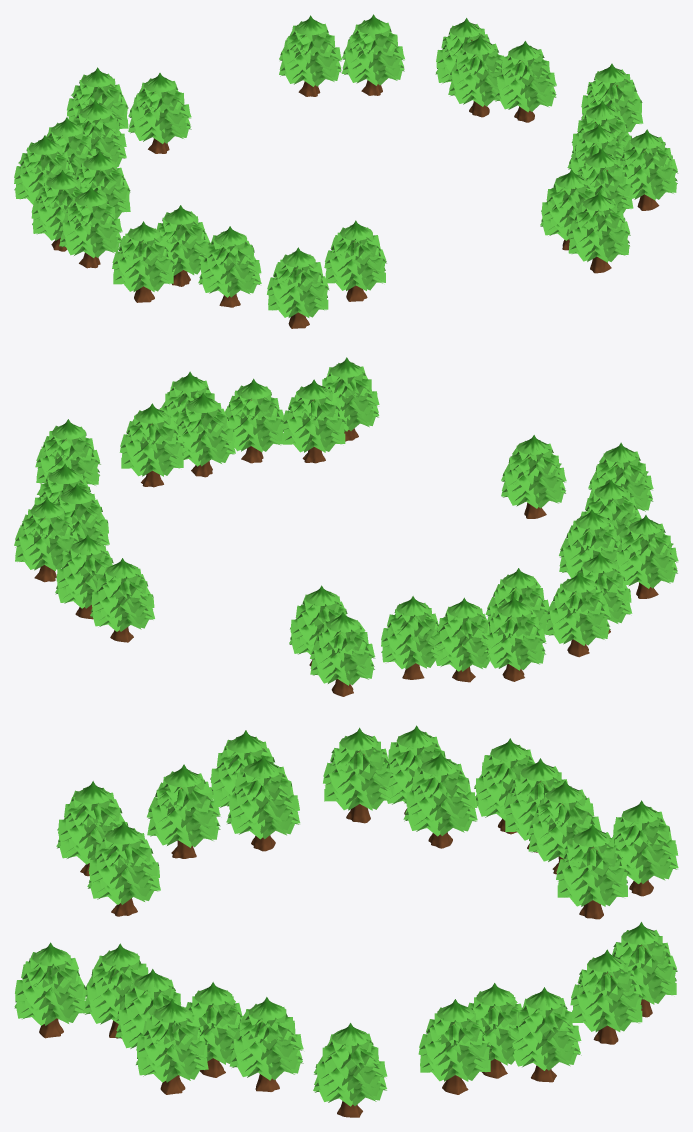
The model's file is Tree3.fbx.
3 views of the same model, one above another, from view 1: azimuth 30°, elevation 25°; view 2: azimuth 150°, elevation 25°; view 3: azimuth 270°, elevation 25° (orthographic). The views are drawn at different scales.
Visible parts, largest first — view 1: Tree3; view 2: Tree3; view 3: Tree3.
Part boxes in pixels (left/top/right/bottom): Tree3: left=14, top=14, right=678, bottom=328; Tree3: left=14, top=357, right=678, bottom=696; Tree3: left=14, top=725, right=678, bottom=1117.
Bounding box in the file's own units: 12661 × 1623 × 10819.
1 material, 1 textured.
